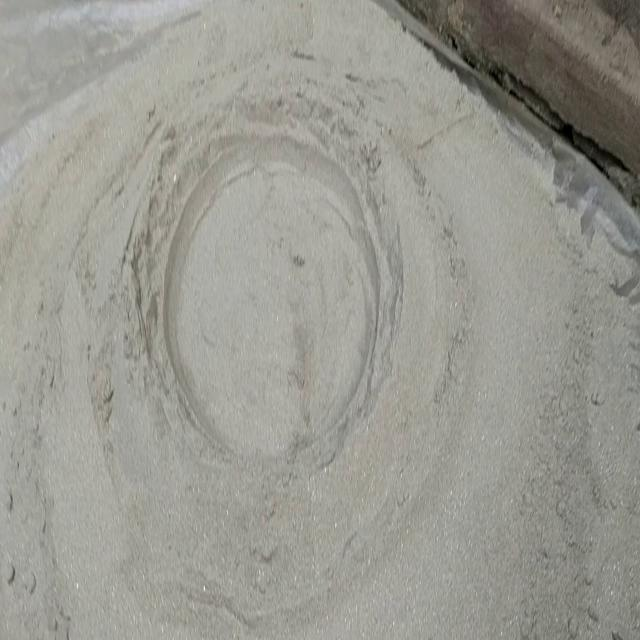C40: (165, 136, 379, 463)
